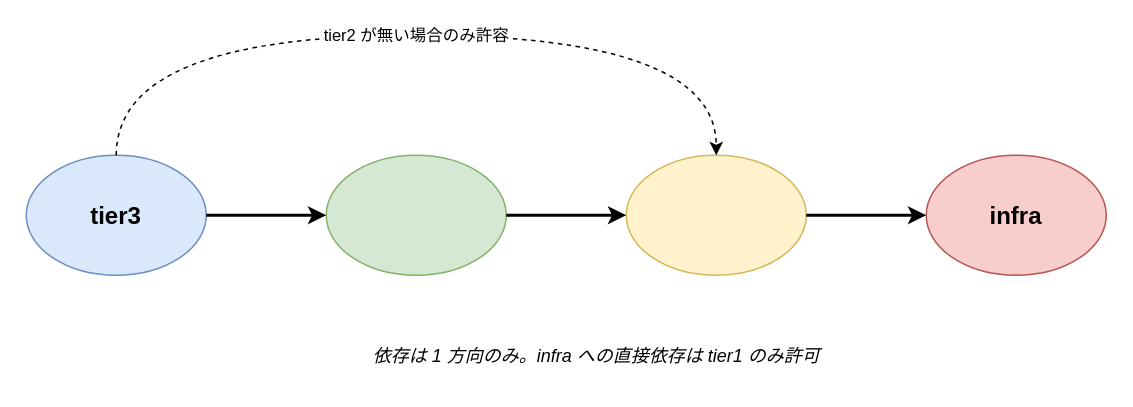
This 1133x407 diagram has some shape labels left out. The centre of each missing label's shape, as x and y in pixels:
"tier1" goes at point (715, 214).
"tier2" goes at point (415, 214).
